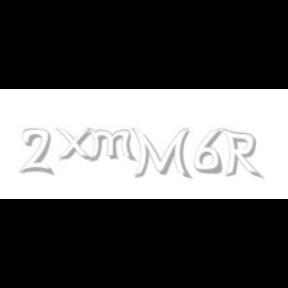2: (18, 128, 52, 176)
6: (194, 128, 222, 176)
M: (132, 128, 190, 180)
R: (222, 128, 260, 180)
m: (86, 128, 138, 162)
x: (55, 128, 97, 162)
